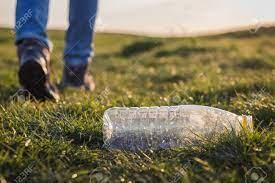bottle: (100, 100, 257, 155)
